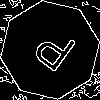P: (25, 25, 79, 81)
